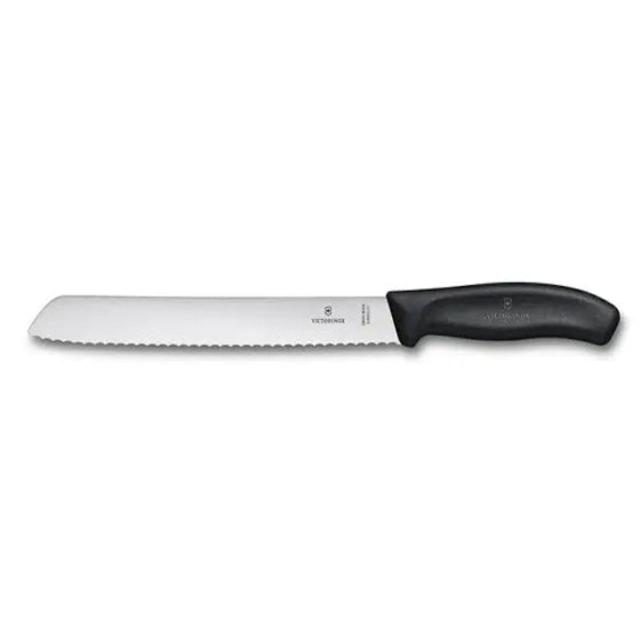Knife: (30, 281, 623, 350)
